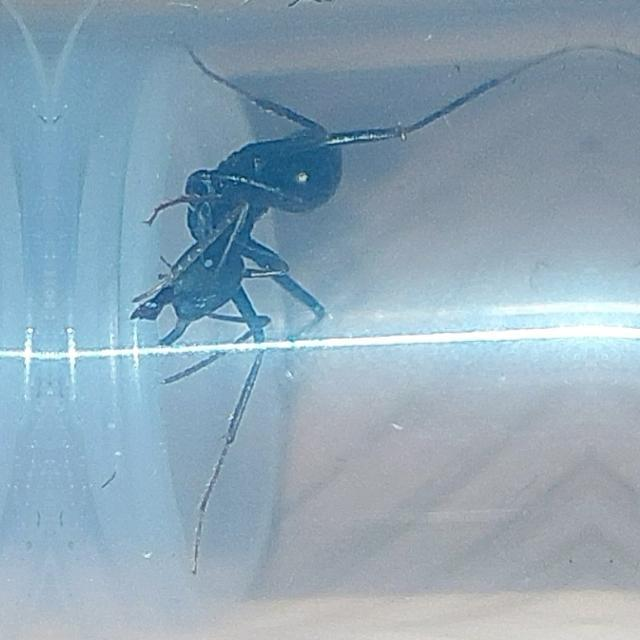Cataglyphis: (99, 91, 371, 425)
